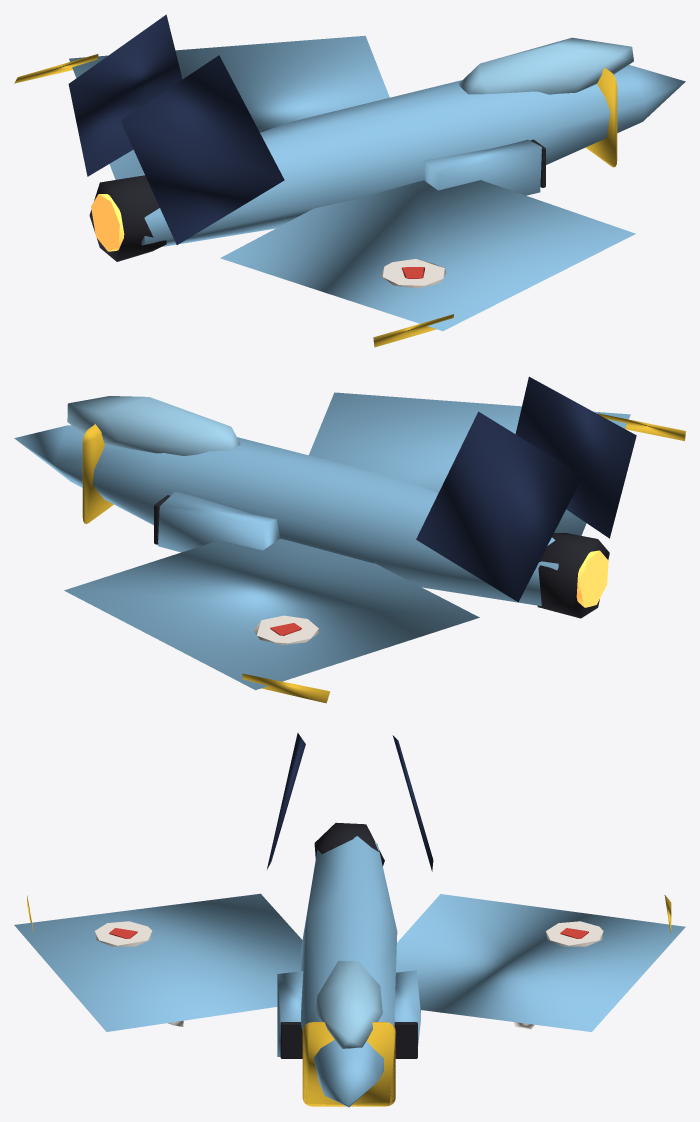
The model's file is jet.glb.
3 renders of one model, top to bottom at view 1: azimuth 30°, elevation 25°; view 2: azimuth 150°, elevation 25°; view 3: azimuth 270°, elevation 25°, orthographic. The views are drawn at different scales.
Parts seen in each view (by area): view 1: jet; view 2: jet; view 3: jet.
Part boxes in pixels (box(x1,y1,x2,y2)): jet: box(14, 14, 685, 347); jet: box(14, 376, 685, 703); jet: box(14, 733, 685, 1107).
Bounding box in the file's own units: 12.54 × 4.45 × 13.7.
Materials: 1 (1 with a texture image).
